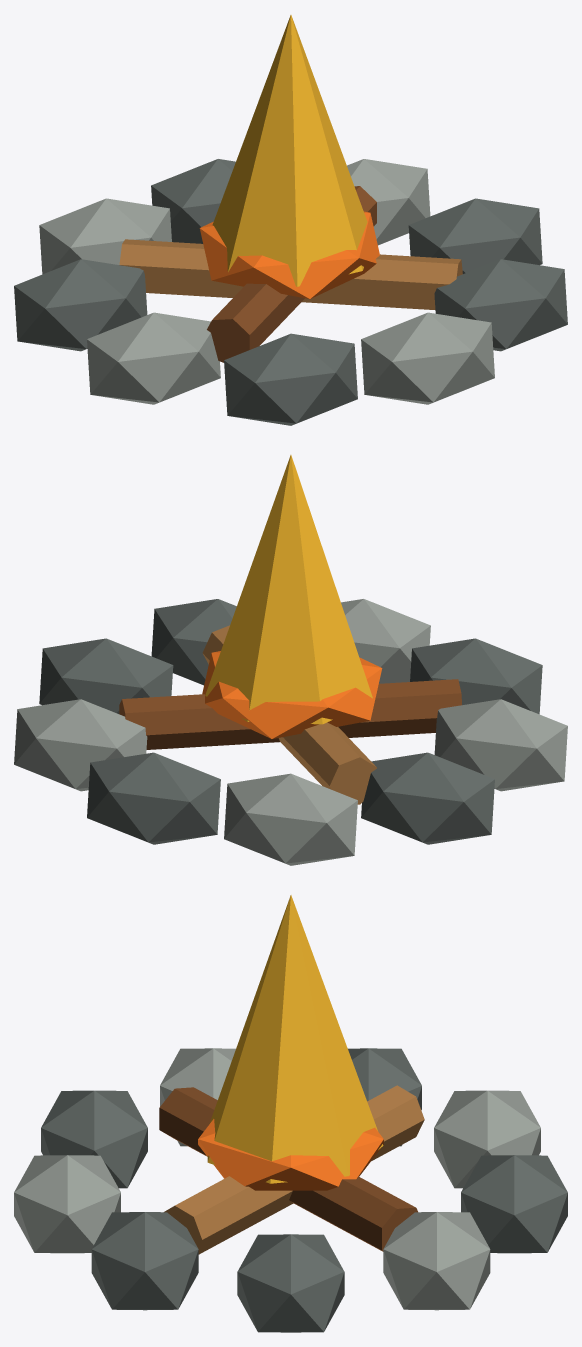
The model's file is SM_CampfireRuins_A.glb.
3 renders of one model, top to bottom at view 1: azimuth 30°, elevation 25°; view 2: azimuth 150°, elevation 25°; view 3: azimuth 270°, elevation 25°, orthographic. The views are drawn at different scales.
Visible parts, largest first — view 1: SM_CampfireRuins_A; view 2: SM_CampfireRuins_A; view 3: SM_CampfireRuins_A.
Part boxes in pixels (x1,y1,x2,y2): SM_CampfireRuins_A: [14, 15, 567, 425]; SM_CampfireRuins_A: [14, 455, 567, 865]; SM_CampfireRuins_A: [14, 895, 567, 1332].
Size of the model in its own units: 3.55 by 2.25 by 3.3.
